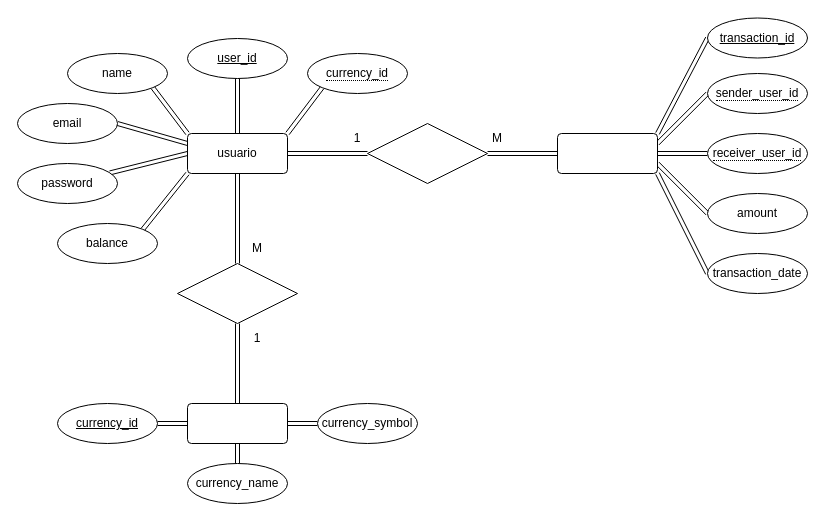
The diagram is 825 pixels wide and 521 high, and some of its shapes have lost their labels. Here are the shapes that lost their labels. From the top down, the centre of each, then its label:
the point at 427,153: tiene
the point at 607,153: transacciones
the point at 237,293: posee
the point at 237,423: moneda
